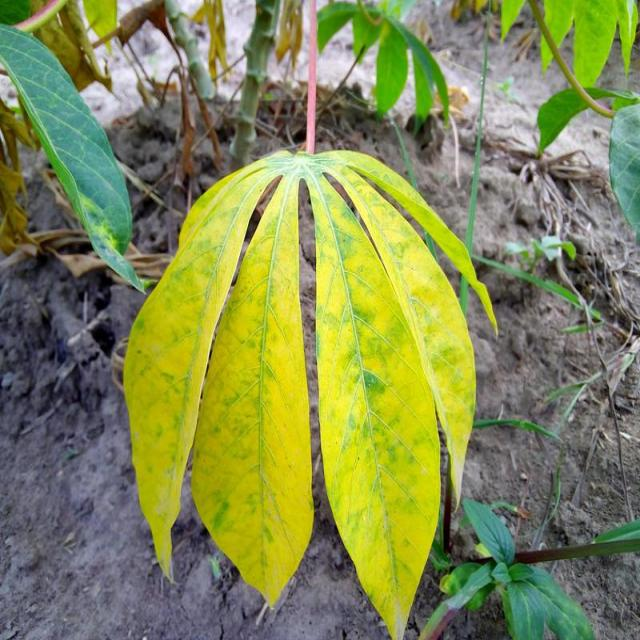cassava leaf: (121, 145, 495, 636), (0, 22, 145, 294)
